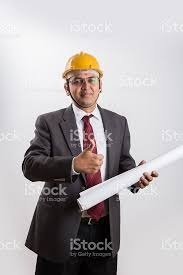helmet: (60, 48, 106, 81)
person with partial safety: (20, 48, 161, 274)
